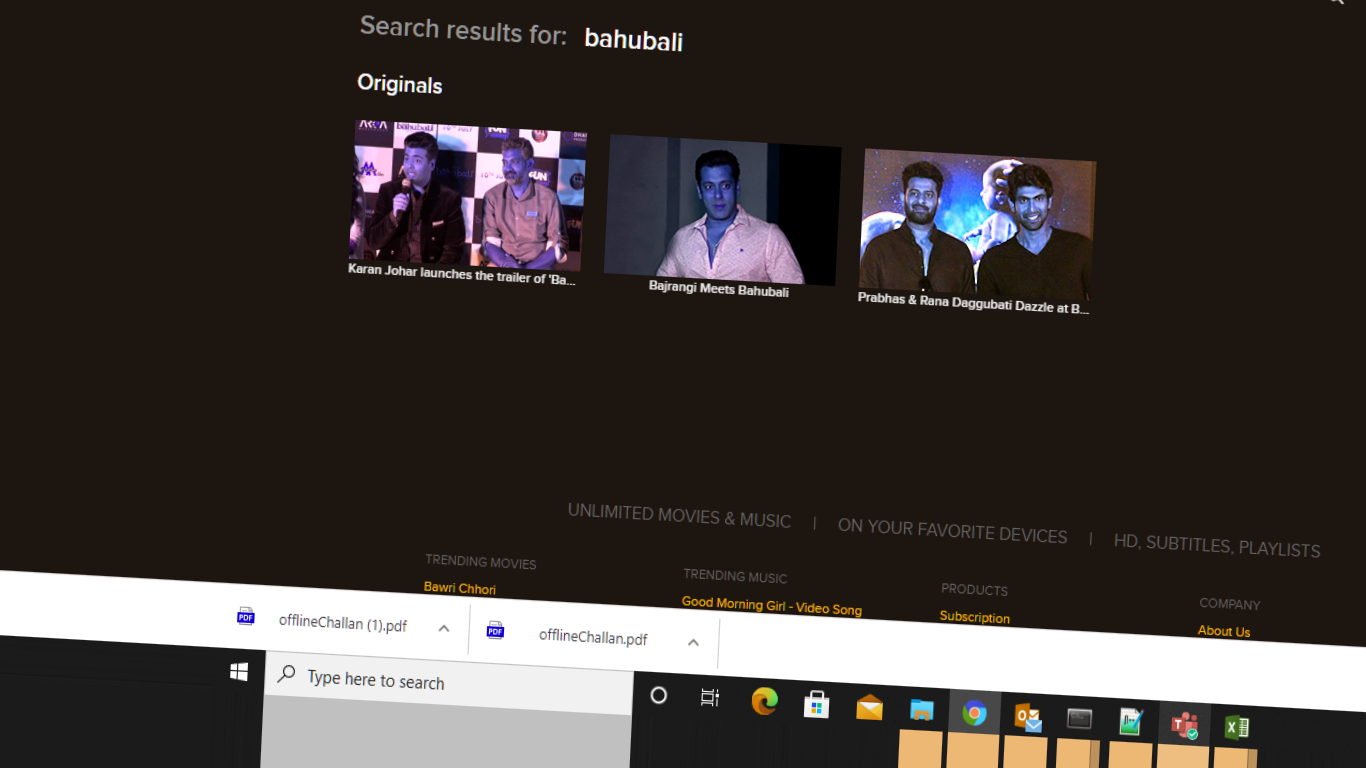resultsfound: (330, 4, 734, 72)
